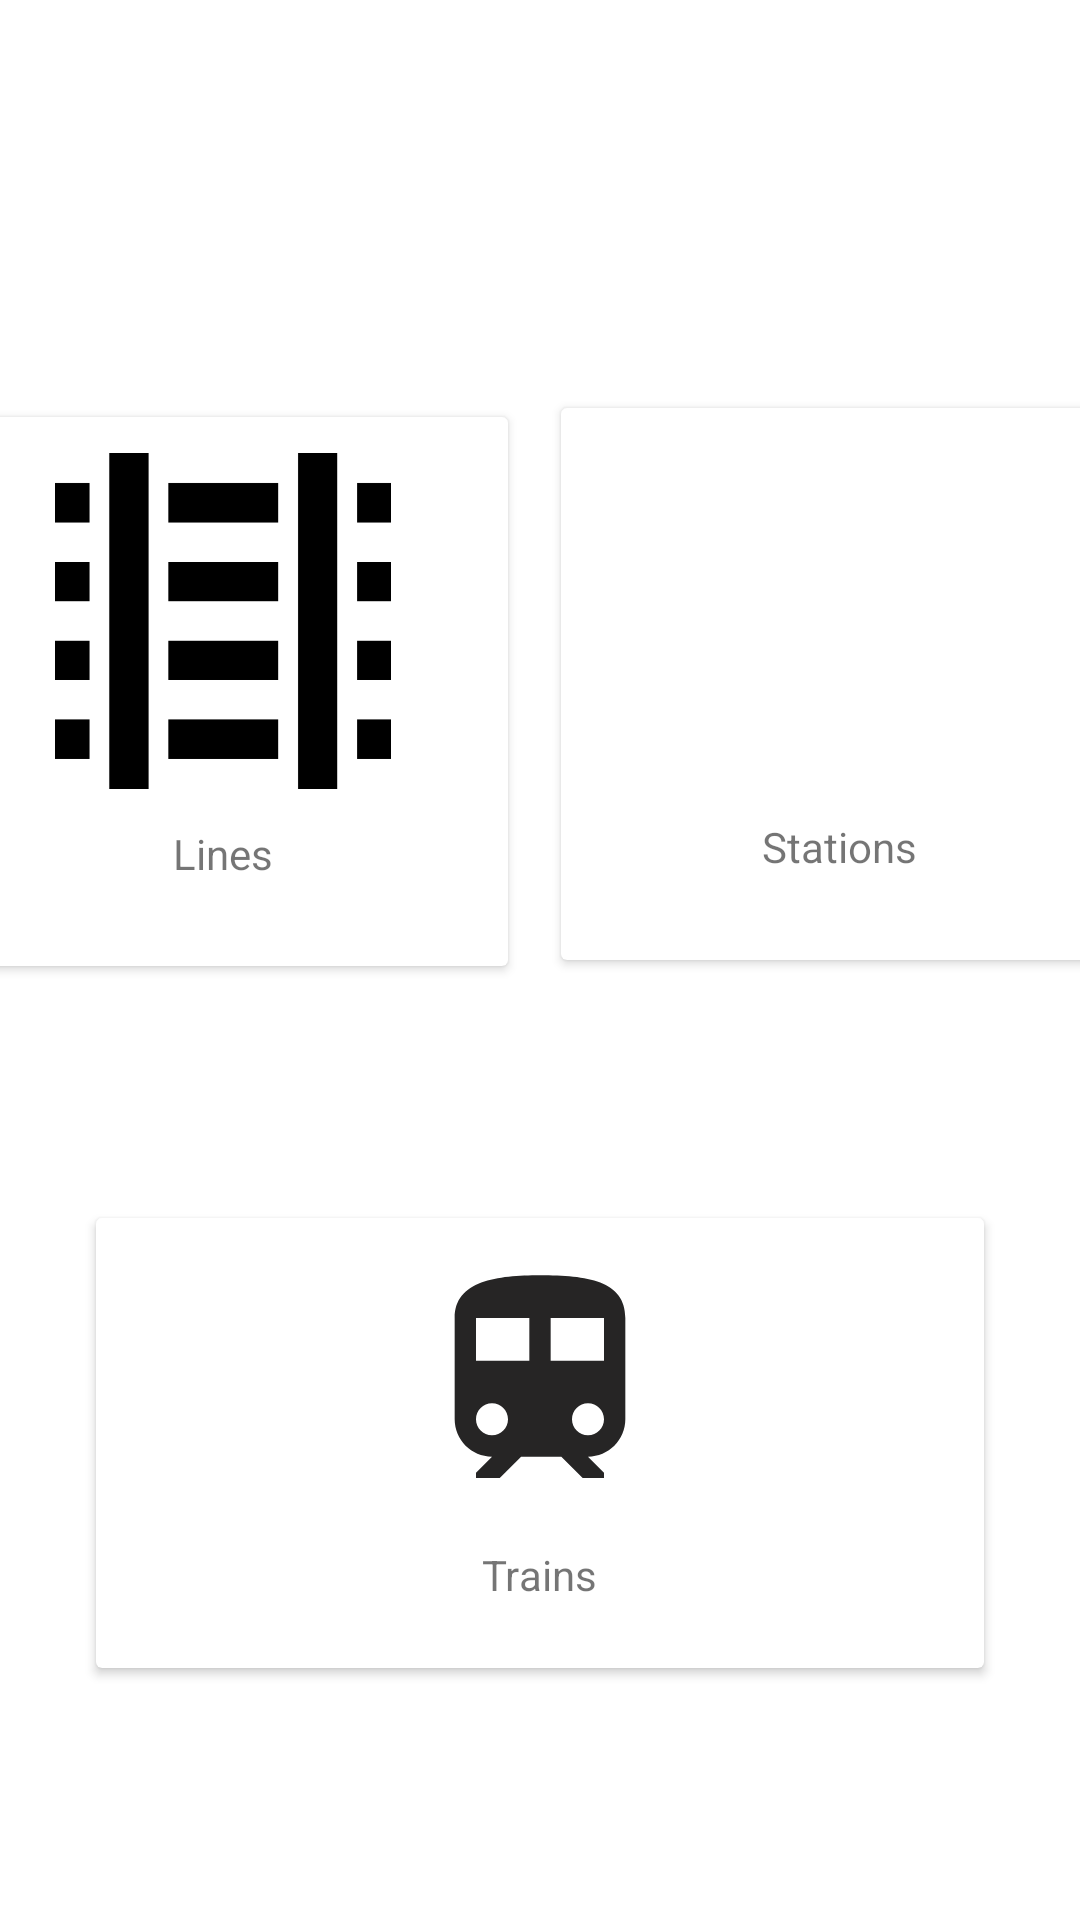

Where icons sit on this 1080 × 1920 app screen, as (x1, y1, x2, y2):
railroad: (55, 453, 391, 789)
